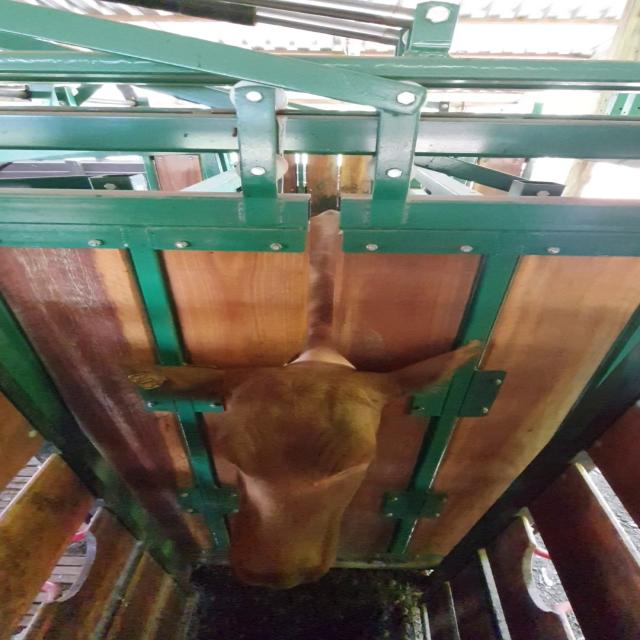cowFace: (218, 365, 382, 587)
